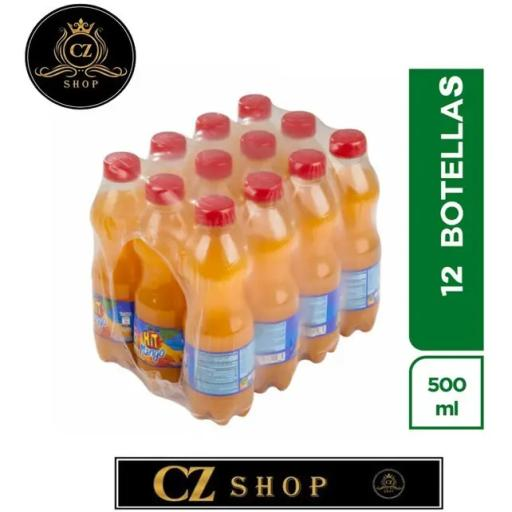JugoHM: (184, 183, 261, 426), (230, 170, 304, 402), (324, 124, 393, 340), (282, 154, 351, 357), (90, 145, 146, 370), (136, 168, 190, 394)
